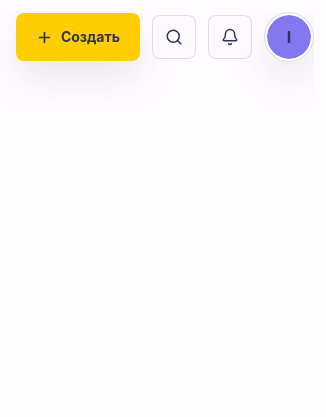
HeaderSessionActions › shows user menu only after checked authenticated session
This screenshot has width=326, height=417.
Press the mouse on the button named "Открыть меню пользователя" at [289, 37], box [264,12,314,62]
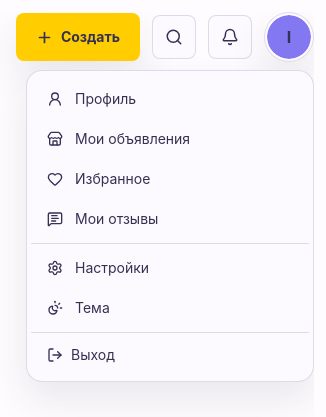
Expected: the text "Настройки" is shown, [75,258,149,278]
Expected: the text "Тема" is shown, [75,298,110,318]
